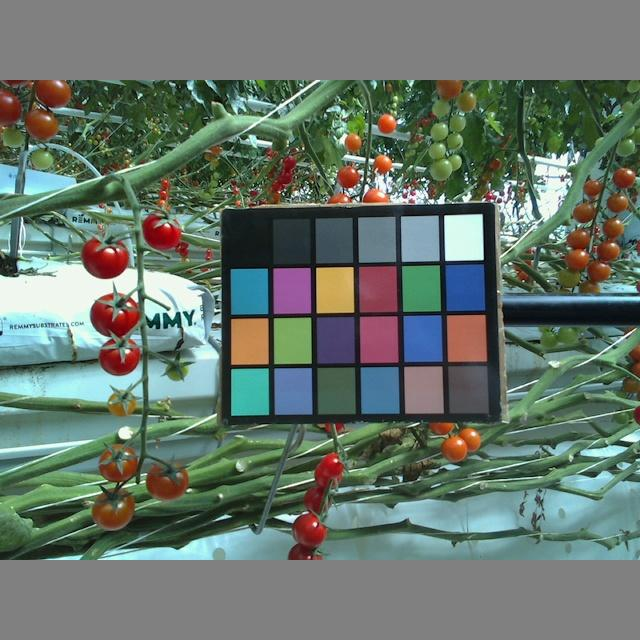green: (163, 357, 187, 382), (1, 129, 27, 150), (32, 145, 54, 169), (430, 157, 450, 181), (560, 323, 578, 346), (459, 93, 477, 112), (429, 120, 446, 140), (449, 113, 466, 133), (558, 271, 580, 285), (447, 133, 465, 150), (542, 332, 559, 348), (429, 143, 446, 158), (430, 101, 447, 116), (447, 155, 463, 169)
pink: (87, 485, 138, 530), (145, 464, 192, 501), (103, 448, 137, 482), (35, 81, 72, 109), (25, 112, 57, 139), (107, 388, 135, 416), (438, 436, 468, 462), (335, 164, 359, 188), (563, 250, 590, 271), (611, 167, 635, 190), (608, 192, 631, 216), (577, 200, 597, 225), (597, 240, 619, 261), (588, 259, 610, 280), (463, 427, 480, 454), (602, 218, 625, 237), (566, 229, 590, 247), (435, 80, 462, 96), (375, 154, 393, 177), (583, 178, 602, 198), (378, 114, 397, 133), (342, 133, 363, 150)
red: (88, 289, 142, 336), (81, 234, 132, 278), (142, 211, 182, 250), (99, 338, 142, 374), (290, 514, 327, 545), (1, 88, 24, 126), (320, 451, 346, 474), (313, 468, 343, 487), (287, 546, 323, 560), (307, 487, 327, 509)
